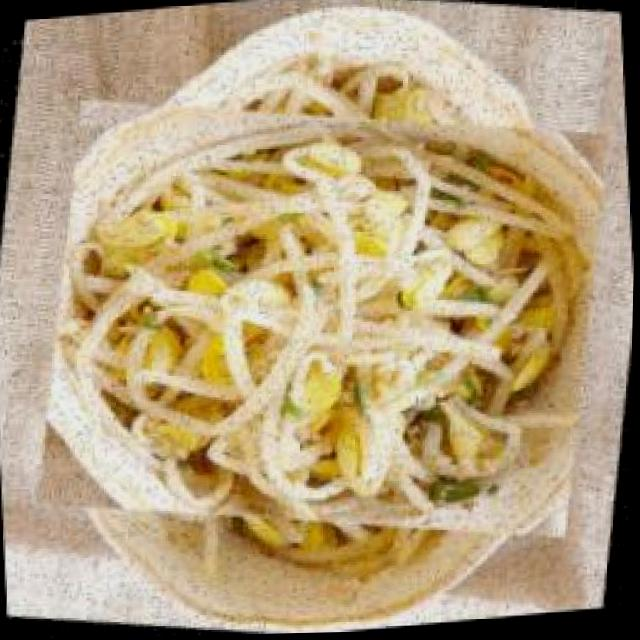mung_bean_sprouts: (34, 29, 614, 609)
